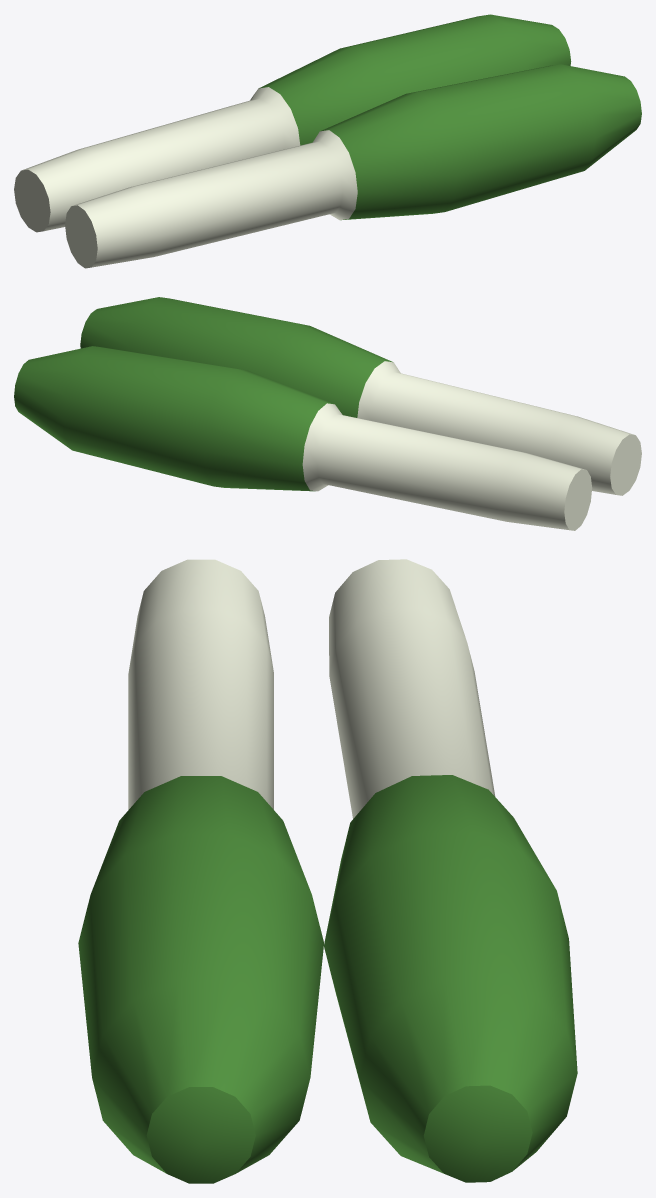
File: Leek.fbx
The picture shows the model from 3 angles, top to bottom: view 1: azimuth 30°, elevation 25°; view 2: azimuth 150°, elevation 25°; view 3: azimuth 270°, elevation 25°; orthographic projection. The views are drawn at different scales.
Parts seen in each view (by area): view 1: Leek; view 2: Leek; view 3: Leek.
Part boxes in pixels (left/top/right/bottom): Leek: left=14, top=14, right=641, bottom=268; Leek: left=14, top=297, right=641, bottom=530; Leek: left=78, top=559, right=577, bottom=1183.
Bounding box in the file's own units: 0.276 × 0.0526 × 0.1097.
